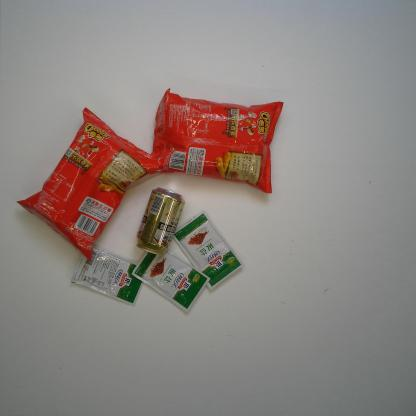Alcohol: (135, 186, 186, 256)
Puffed Food: (16, 106, 164, 262), (149, 87, 284, 194)
Seasoner: (172, 209, 244, 291), (131, 248, 211, 315), (70, 244, 144, 307)
